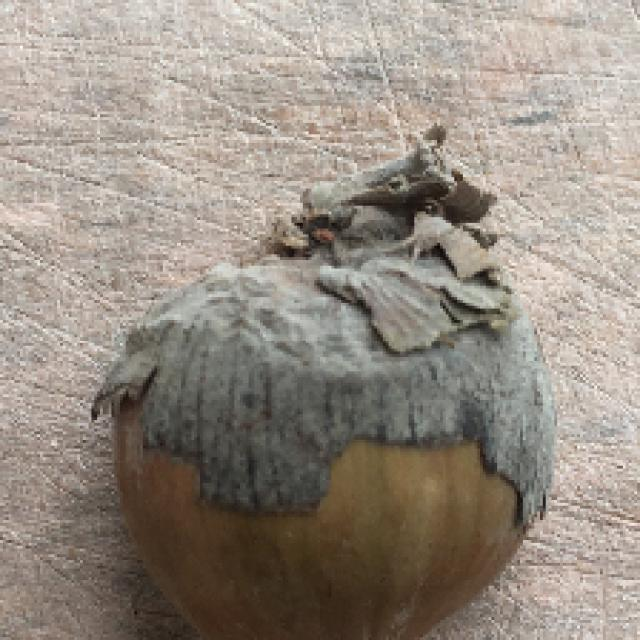damagedHazelnut: (85, 177, 568, 640)
